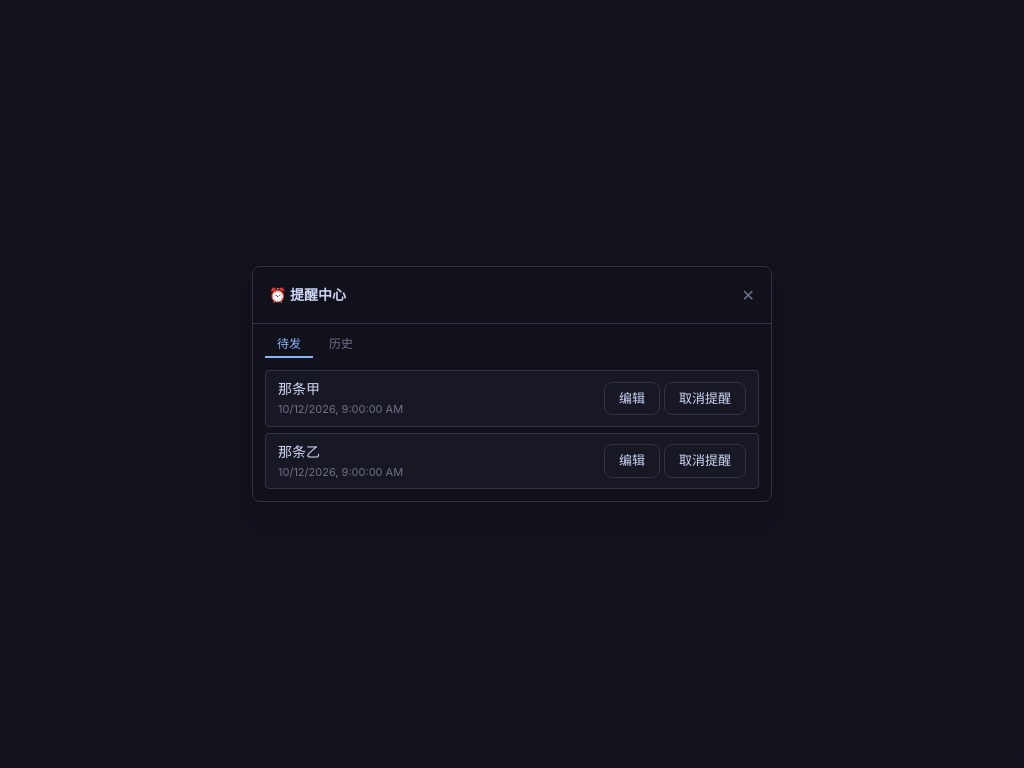
Test: §332 提醒中心：在飞态一行一格 › 反向钉：B 那发失败只说 B 那一句（A 还在飞 ⇒ 那一行不许被 B 的回执解锁）
Click the button "取消提醒" in the row of "那条甲" at (705, 398), box [664,382,746,415]
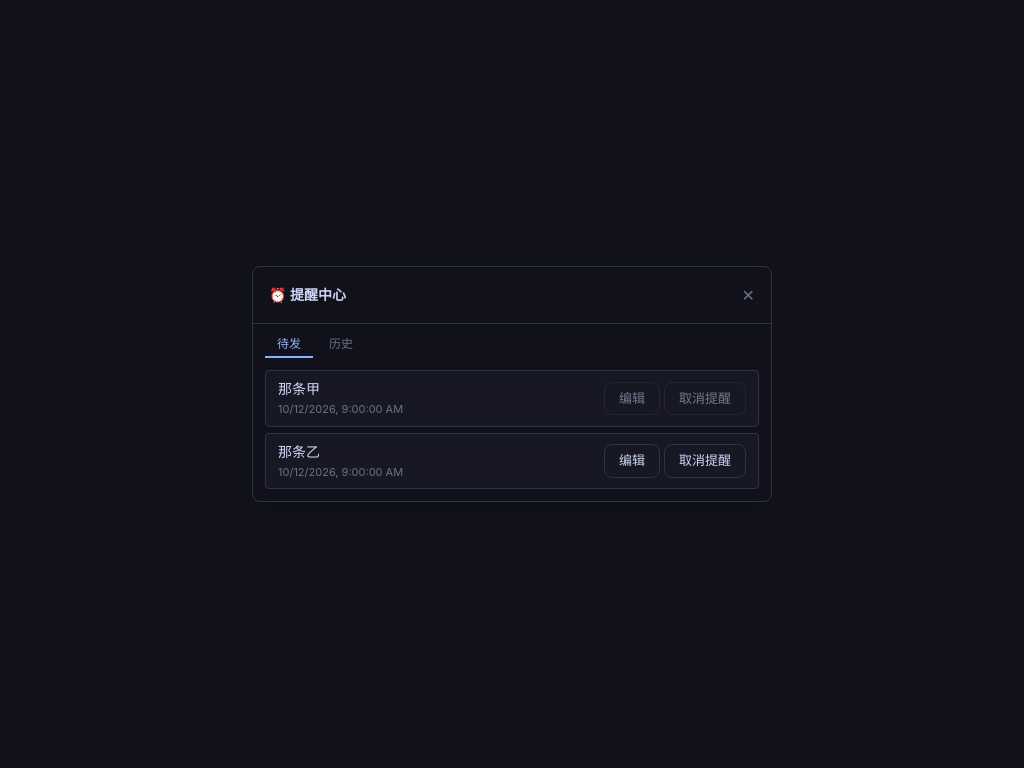
Click the button "取消提醒" in the row of "那条乙" at (705, 461), box [664,444,746,478]
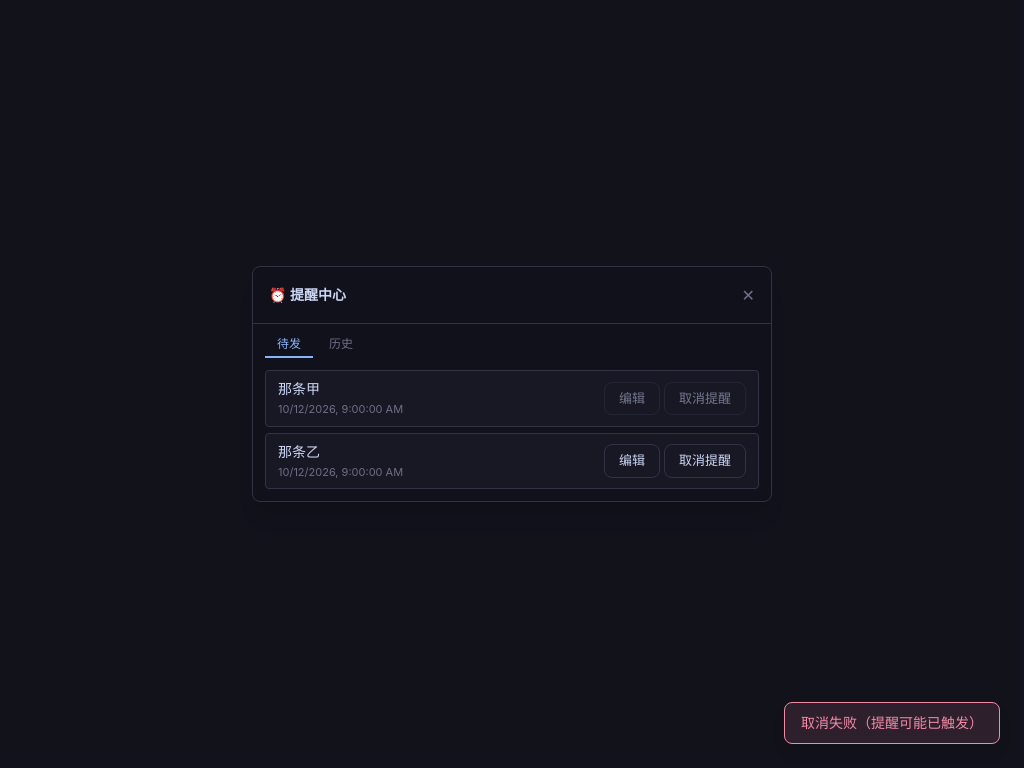
Expected: the button "取消提醒" in the row of "那条甲" is disabled, [664,382,746,415]
Expected: the message reads "取消失败（提醒可能已触发）", [801,714,983,731]
